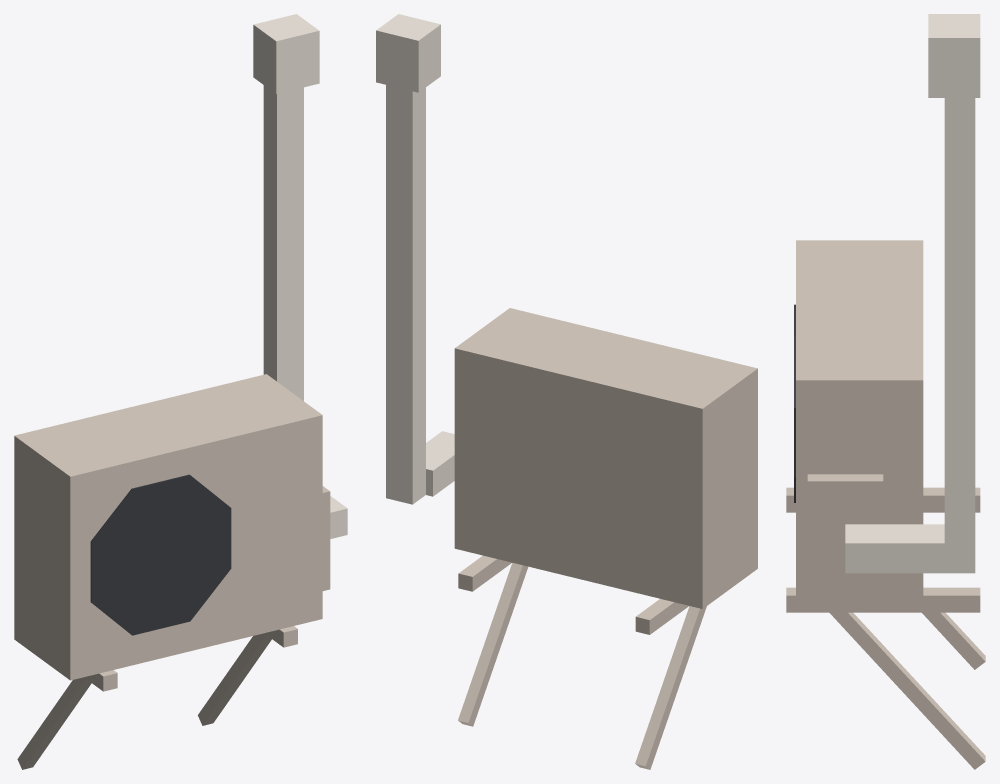
File: SM_Fixture_GetabakiWallAc_Bracket_01.gltf
3 renders of one model, left to right at view 1: azimuth 30°, elevation 25°; view 2: azimuth 150°, elevation 25°; view 3: azimuth 270°, elevation 25°, orthographic. The views are drawn at different scales.
Visible parts, largest first — view 1: SM_Fixture_GetabakiWallAc_Bracket_01; view 2: SM_Fixture_GetabakiWallAc_Bracket_01; view 3: SM_Fixture_GetabakiWallAc_Bracket_01.
Boxes of the visible parts, x1,y1,x2,y2 form: SM_Fixture_GetabakiWallAc_Bracket_01: (14, 14, 347, 769); SM_Fixture_GetabakiWallAc_Bracket_01: (376, 14, 757, 769); SM_Fixture_GetabakiWallAc_Bracket_01: (786, 14, 985, 769).
Bounding box in the file's own units: 0.8525 × 1.82 × 0.4215.
1 material, 1 textured.
